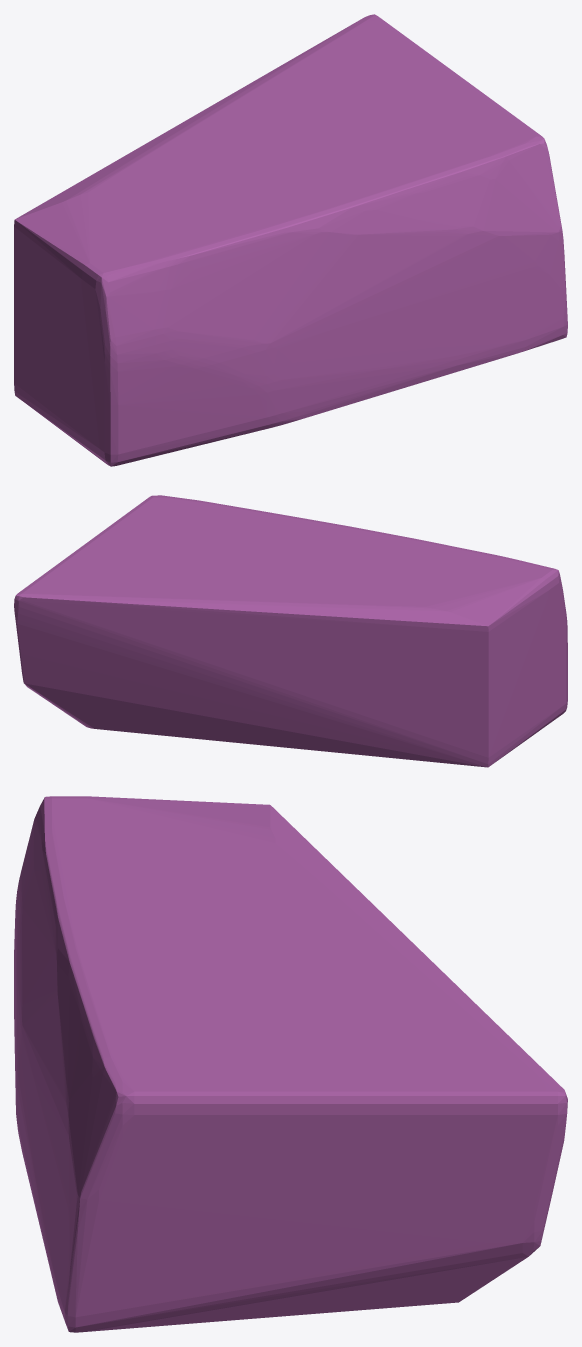
File: right-elbow-0_part_7.obj
The picture shows the model from 3 angles, top to bottom: view 1: azimuth 30°, elevation 25°; view 2: azimuth 150°, elevation 25°; view 3: azimuth 270°, elevation 25°; orthographic projection. The views are drawn at different scales.
Size of the model in its own units: 0.0556 by 0.0204 by 0.0429.
